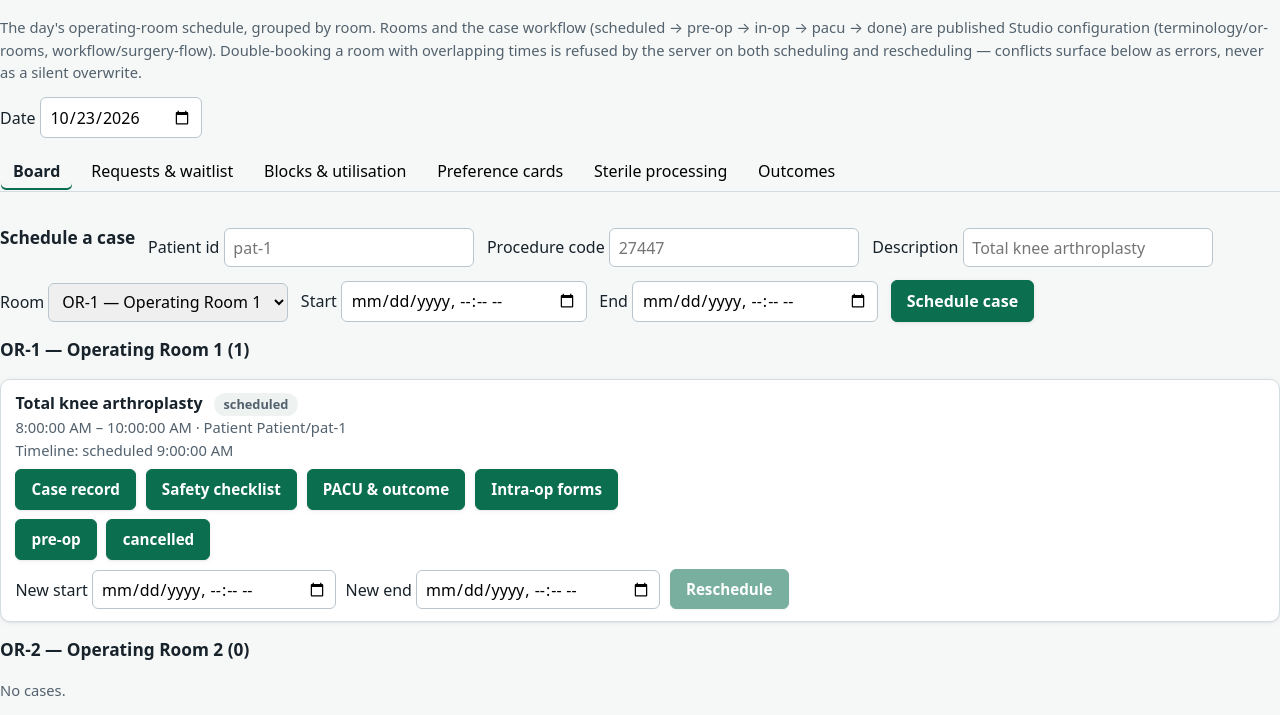
Test: SurgeryBoardPage › safety panel shows pending sections and records Sign In via the form
expect the text "Total knee arthroplasty" is shown: met, box [15,392,202,414]
Click the button "Safety checklist" at (221, 490), box [146,469,297,510]
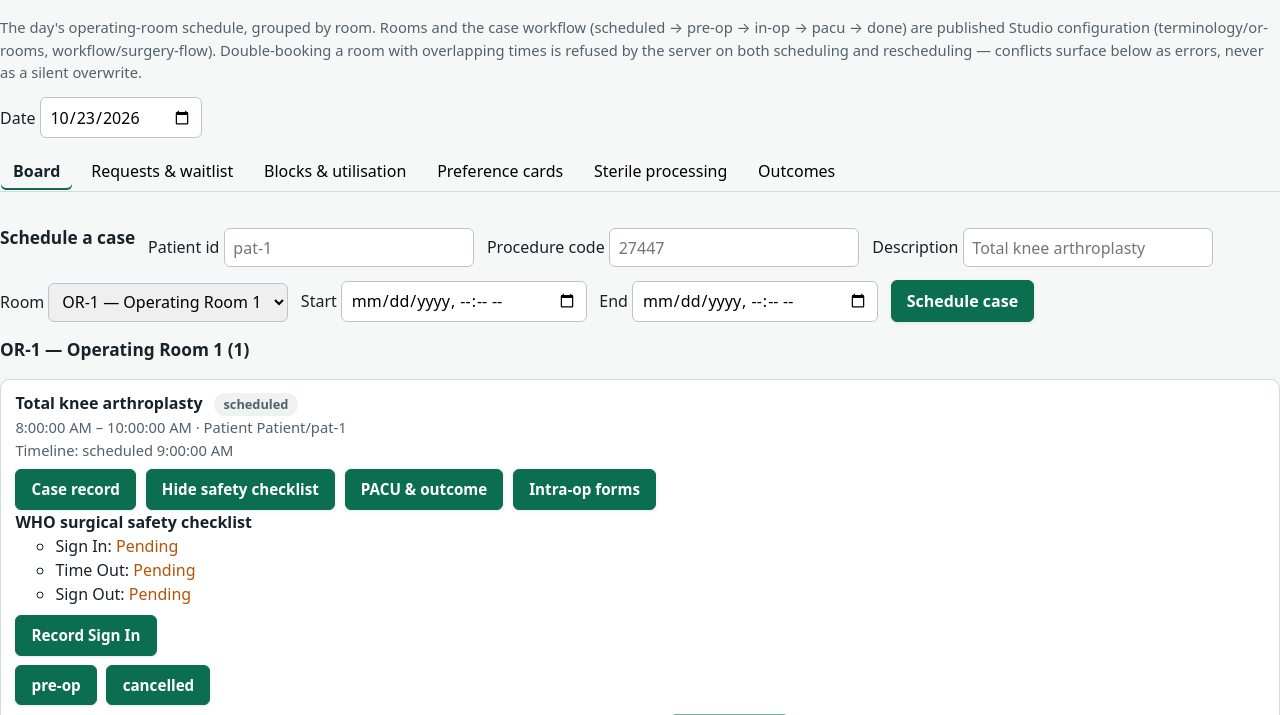
expect the text "WHO surgical safety checklist" is shown: met, box [15,511,252,533]
expect the list item "Sign In:" is shown: met, box [55,535,178,557]
expect the text "Pending" is shown 3 times: met, box [116,535,178,557]; [133,559,196,581]; [129,583,191,605]
Click the button "Record Sign In" at (86, 635), box [15,615,157,656]
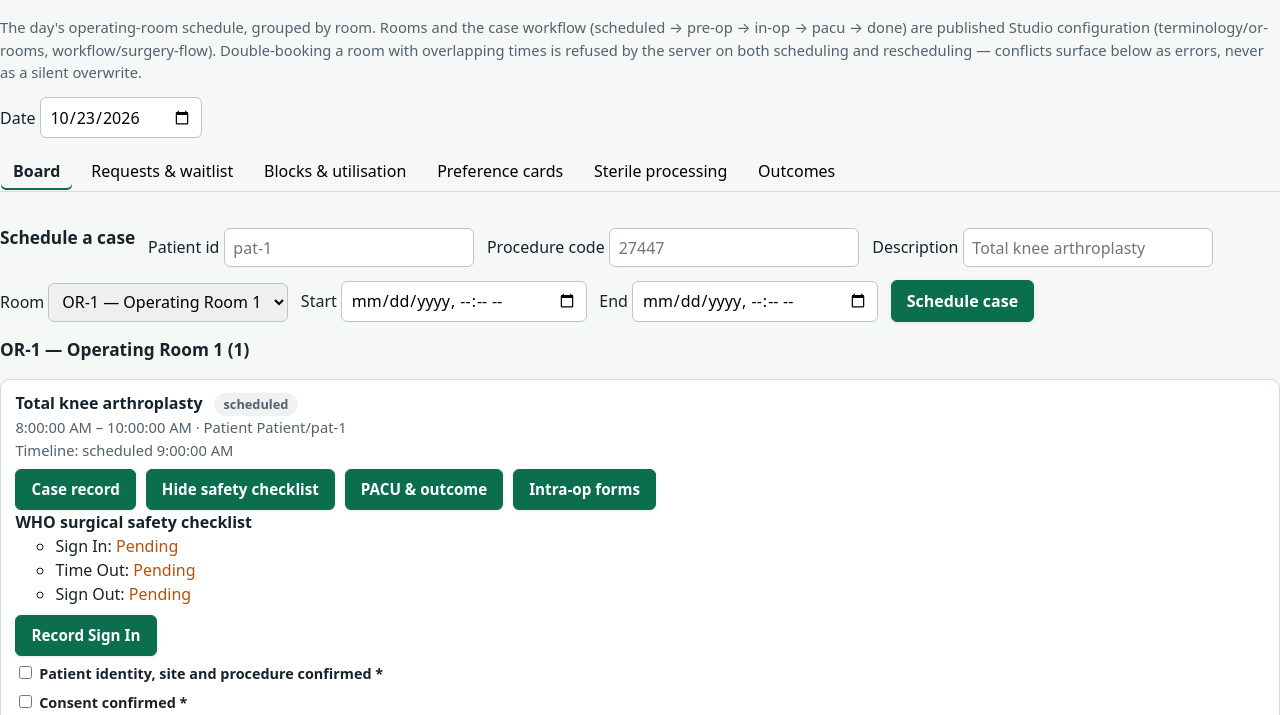
expect the checkbox labelled "Patient identity, site and procedure confirmed *" is shown: met
Click the checkbox labelled "Patient identity, site and procedure confirmed *" at (26, 672), box [19,666,32,679]
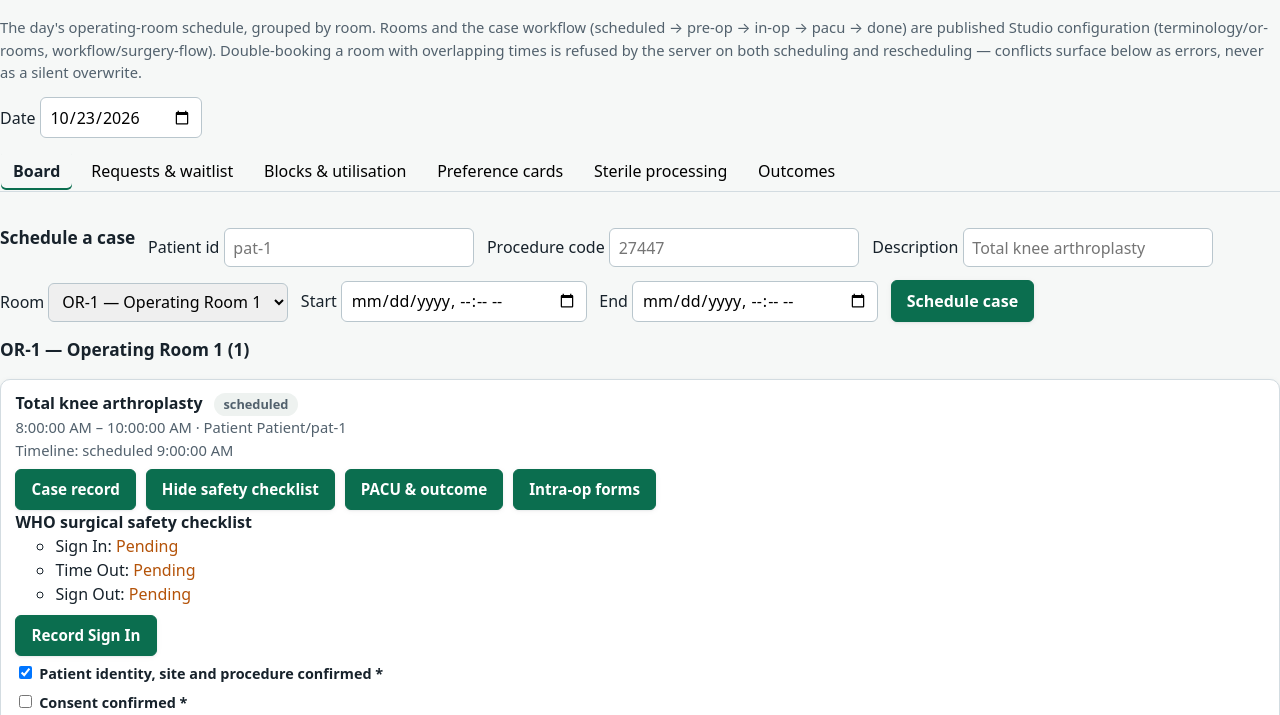
Click the checkbox labelled "Consent confirmed *" at (26, 701), box [19,695,32,708]
(page scrolled)
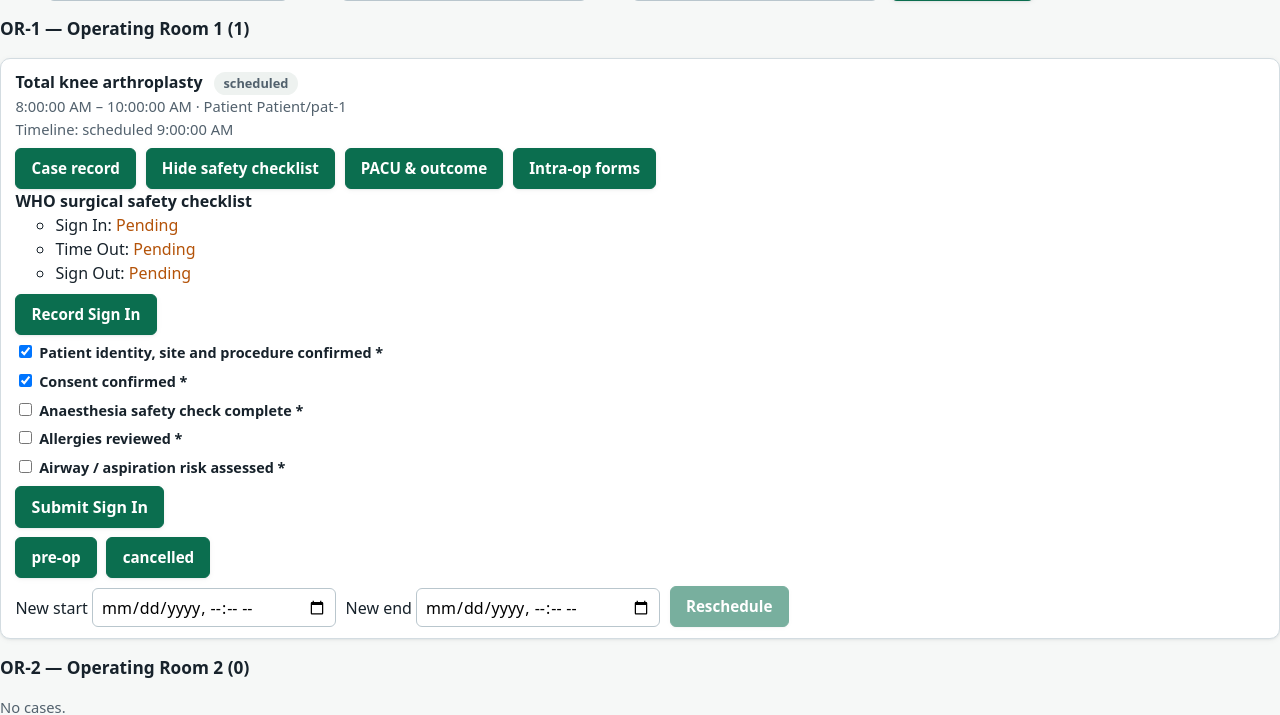
Click the button "Submit Sign In" at (90, 507), box [15,486,164,528]
(page scrolled)
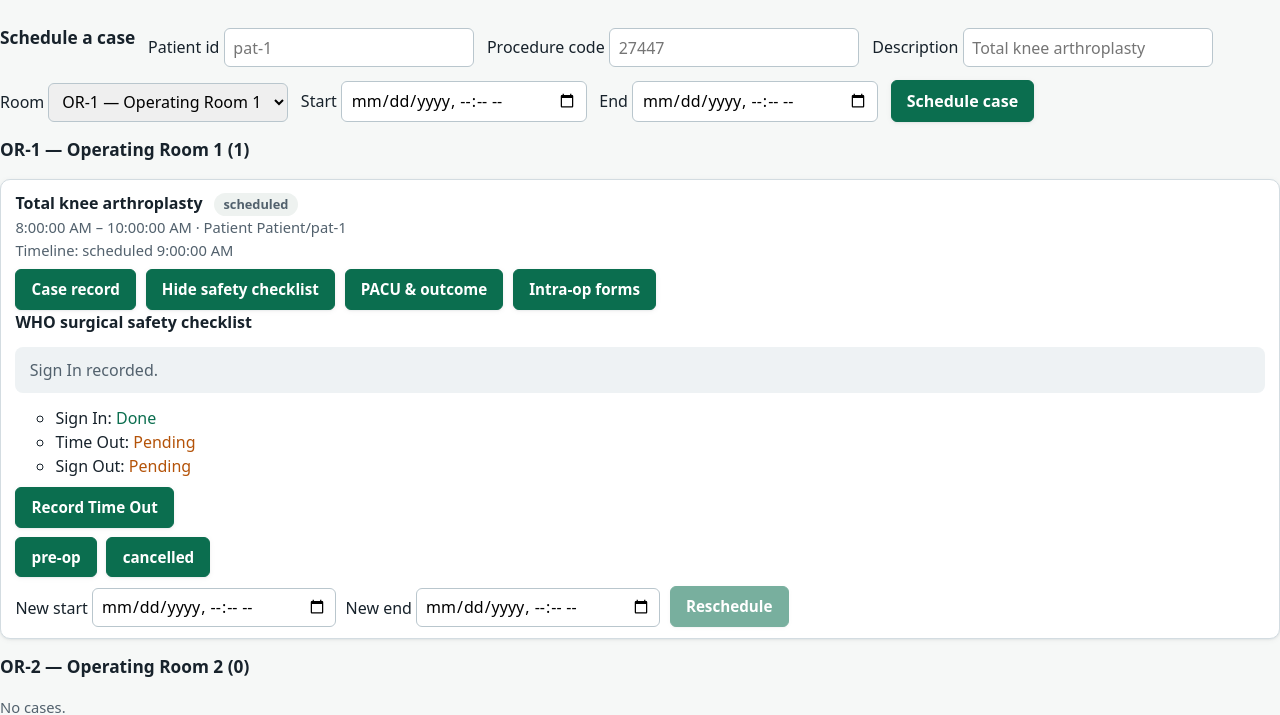
expect the text "Done" is shown: met, box [116,407,156,429]
